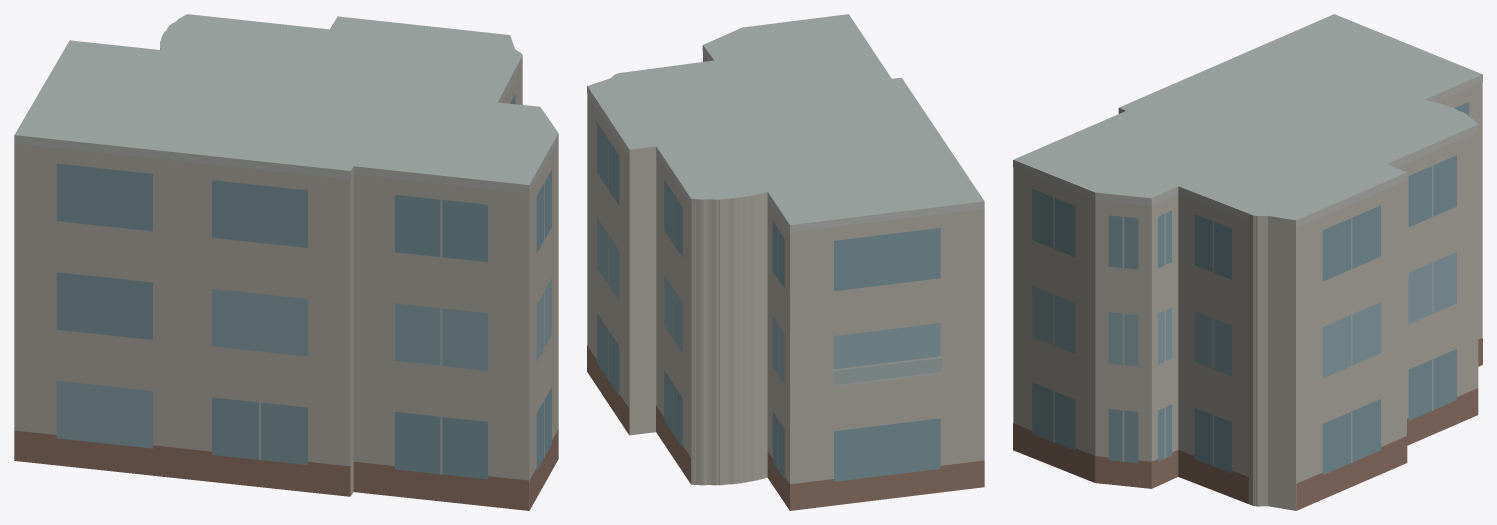
The model's file is survey-upis-33035596.glb.
The picture shows the model from 3 angles, left to right: view 1: azimuth 30°, elevation 25°; view 2: azimuth 150°, elevation 25°; view 3: azimuth 270°, elevation 25°; orthographic projection. The views are drawn at different scales.
Visible parts, largest first — view 1: survey-upis-33035596.tmp; view 2: survey-upis-33035596.tmp; view 3: survey-upis-33035596.tmp.
Part boxes in pixels (bbox=[...]): survey-upis-33035596.tmp: bbox=[14, 14, 558, 510]; survey-upis-33035596.tmp: bbox=[587, 14, 984, 510]; survey-upis-33035596.tmp: bbox=[1013, 14, 1482, 510].
Size of the model in its own units: 14.41 by 9.45 by 13.85.
